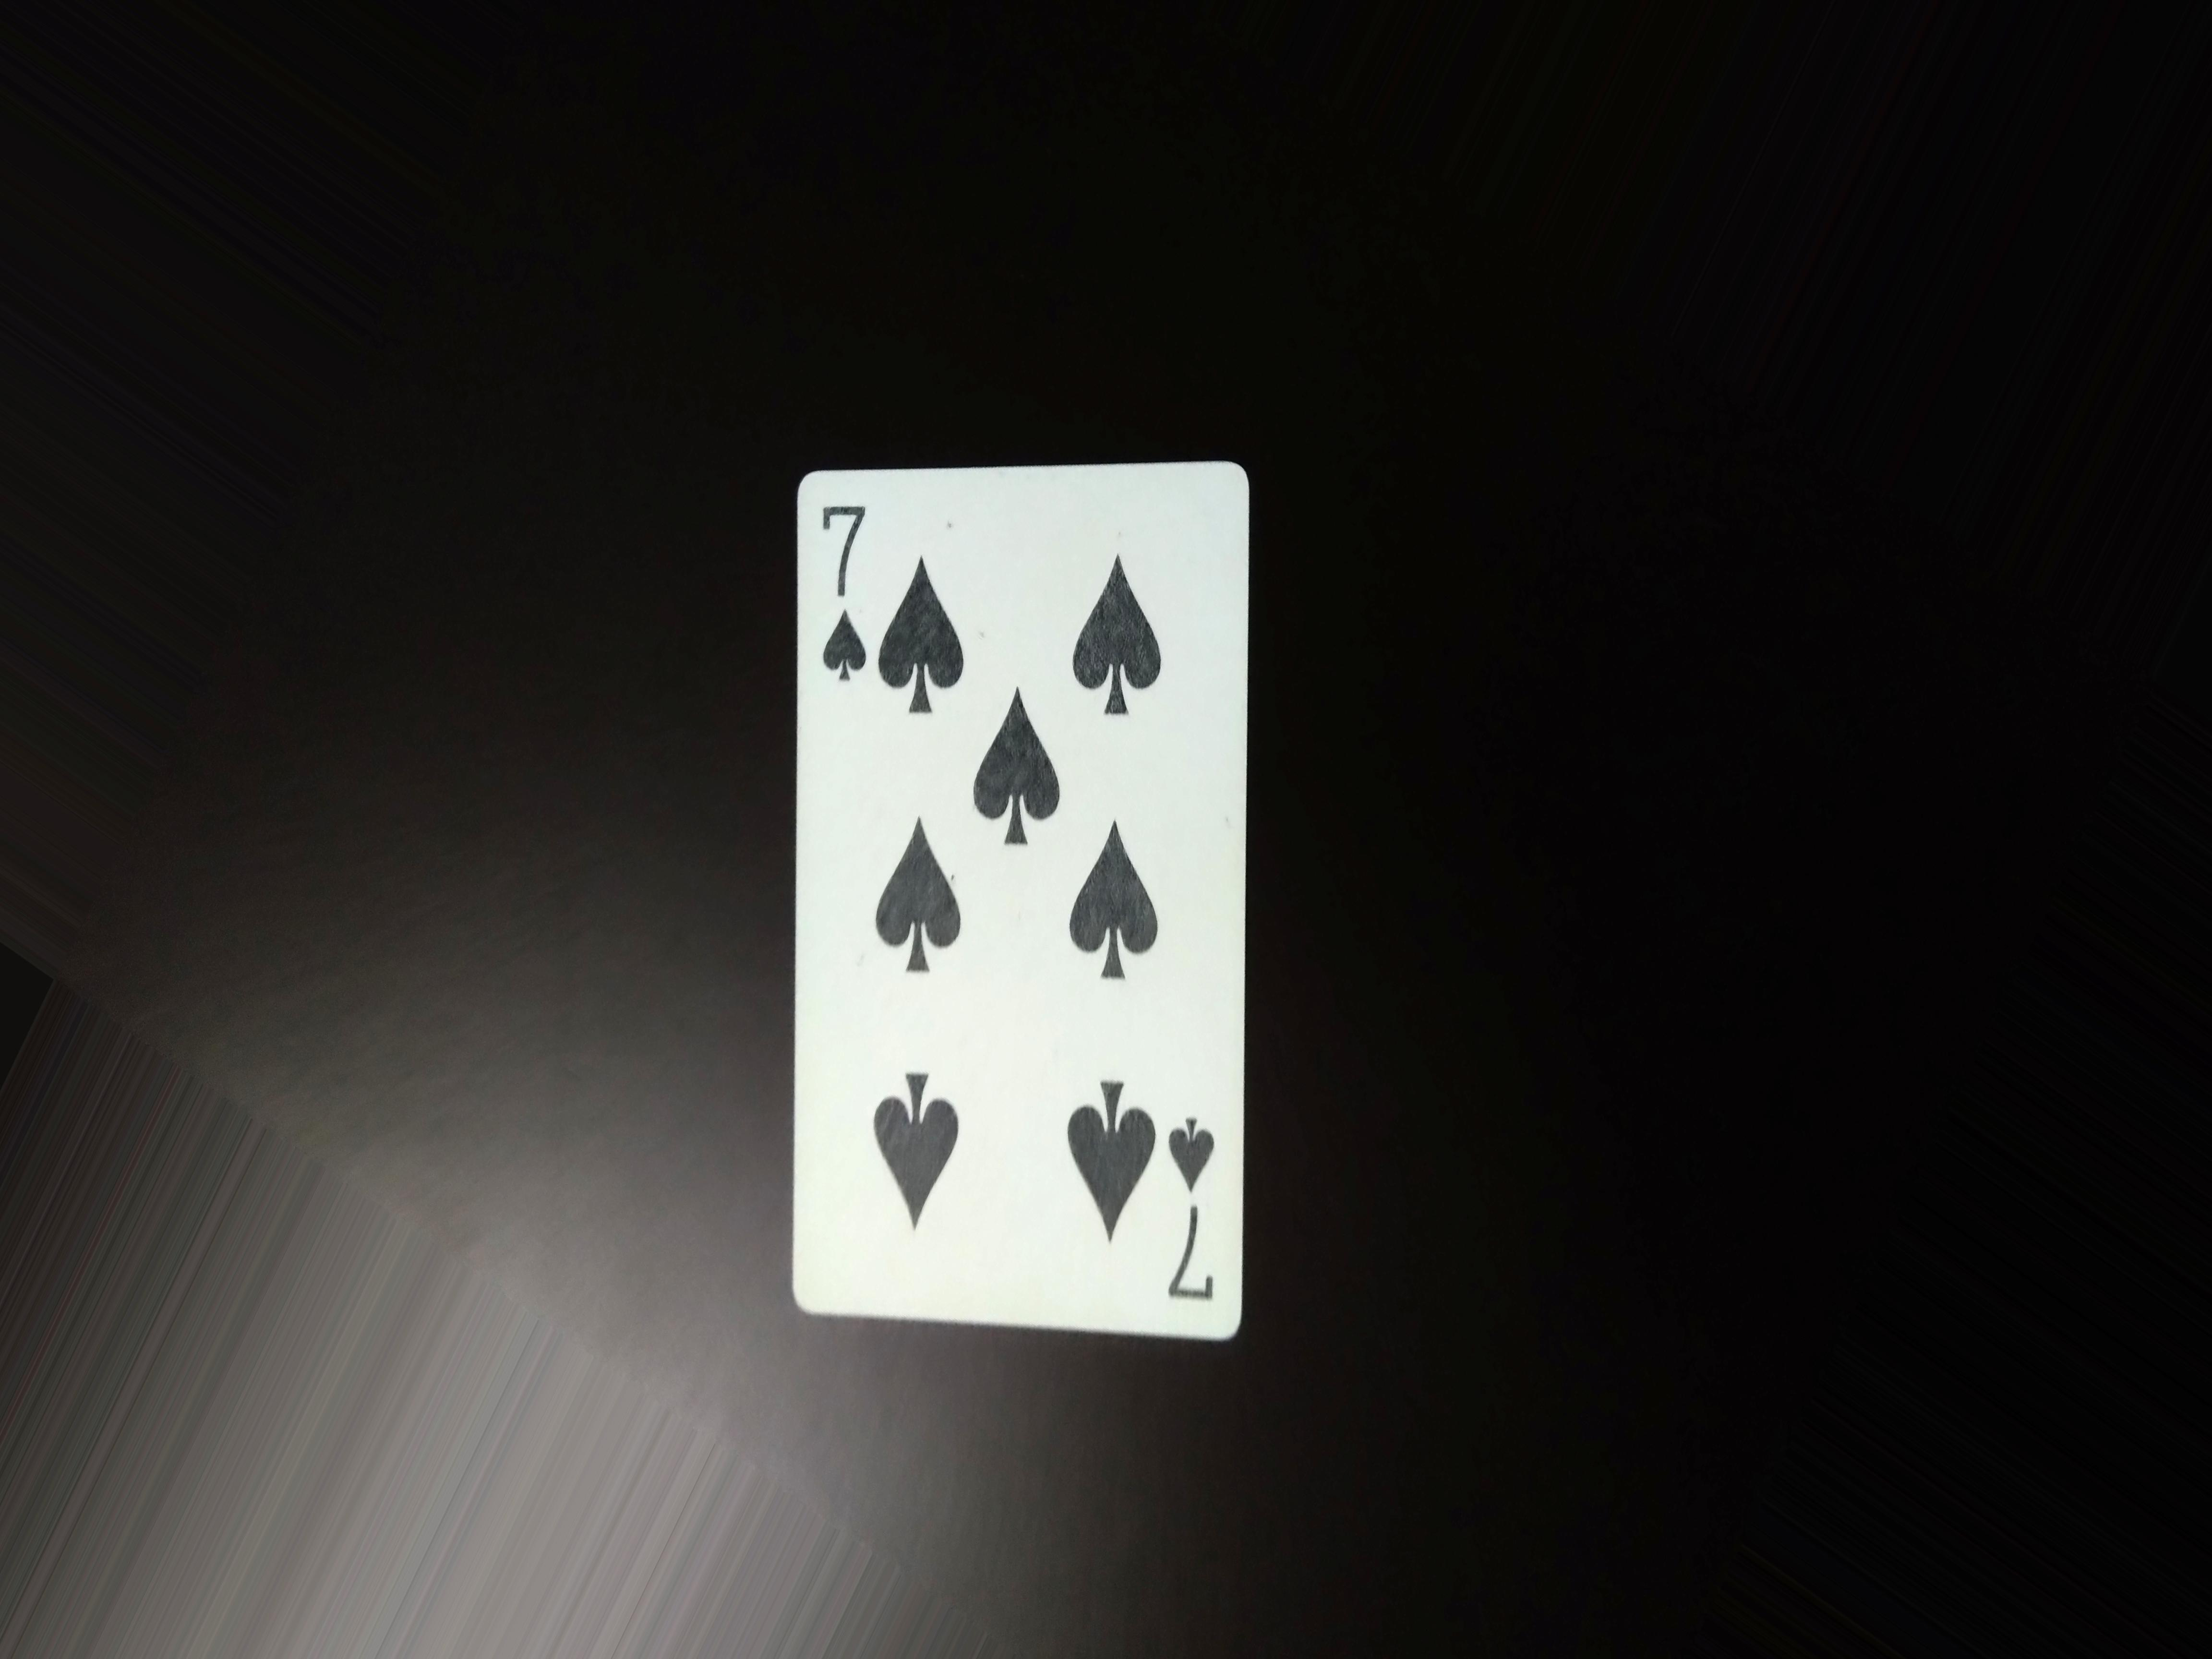7S: (820, 481, 883, 687)
